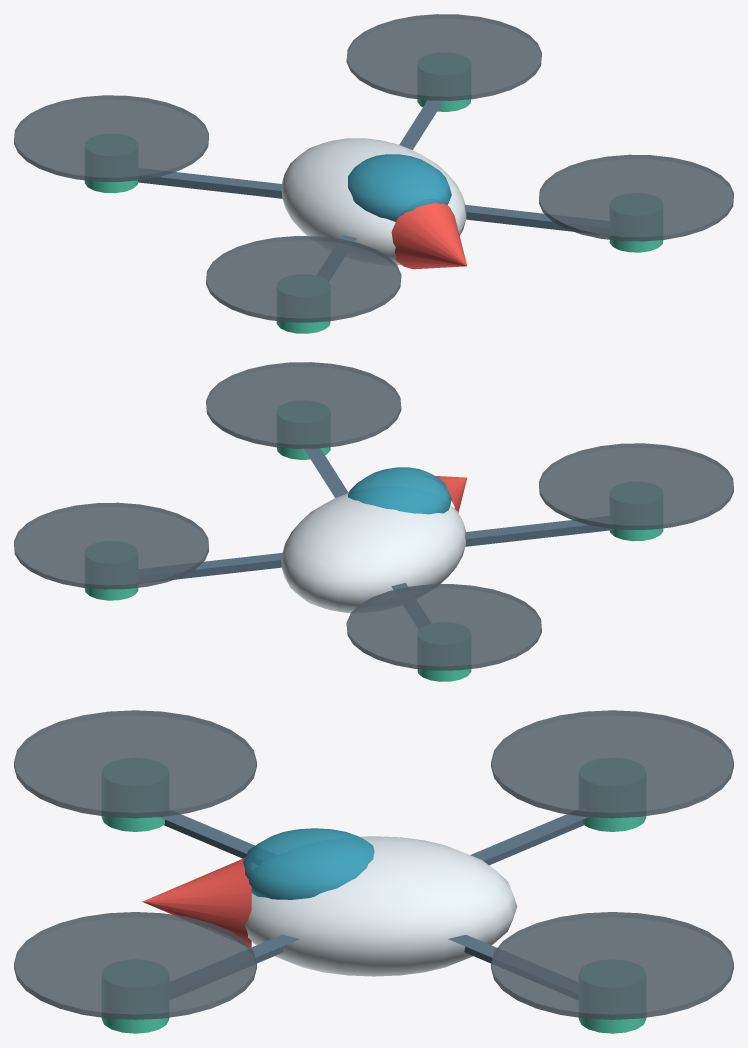
Rendered from quadcopter.glb.
3 renders of one model, top to bottom at view 1: azimuth 30°, elevation 25°; view 2: azimuth 150°, elevation 25°; view 3: azimuth 270°, elevation 25°, orthographic. The views are drawn at different scales.
Parts seen in each view (by area): view 1: quadcopter; view 2: quadcopter; view 3: quadcopter.
Boxes of the visible parts, x1,y1,x2,y2 form: quadcopter: (14,14,733,333); quadcopter: (14,362,733,681); quadcopter: (14,710,733,1033).
Bounding box in the file's own units: 4.27 × 0.81 × 4.27.
